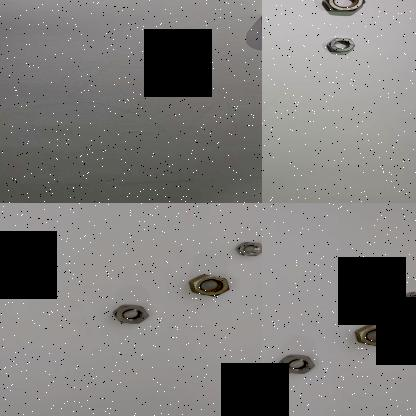NUTS: (187, 270, 235, 300), (352, 320, 400, 350), (315, 32, 366, 58), (108, 302, 154, 326), (277, 352, 320, 375), (316, 0, 378, 13), (232, 239, 262, 258)
